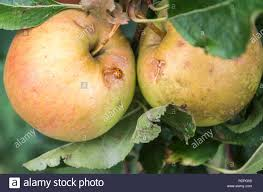damaged_apple: (5, 15, 137, 139), (138, 14, 261, 126)
